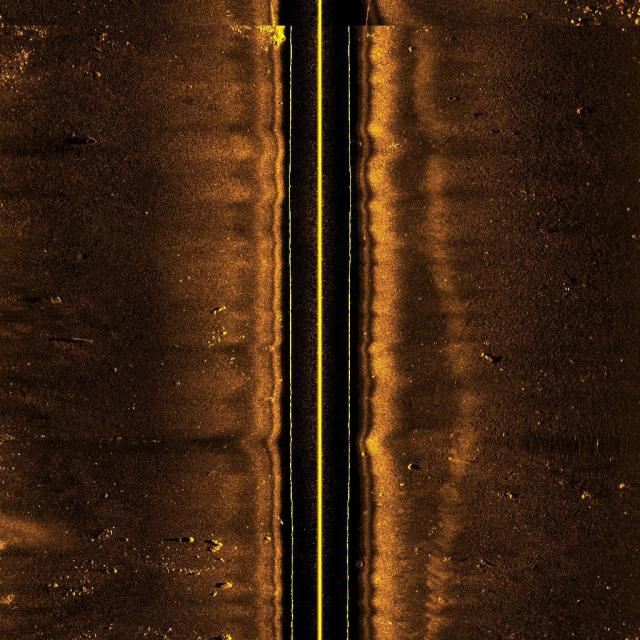mine: (45, 332, 97, 347)
other: (472, 347, 498, 369)
